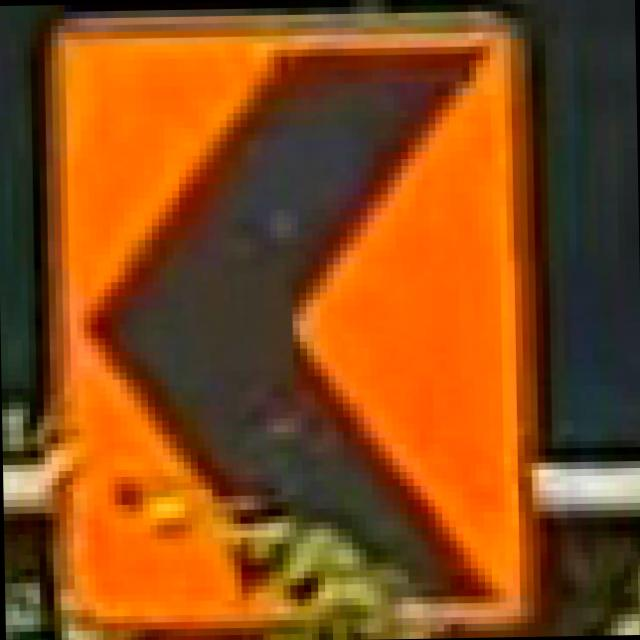curveleft_sign: (36, 10, 534, 638)
